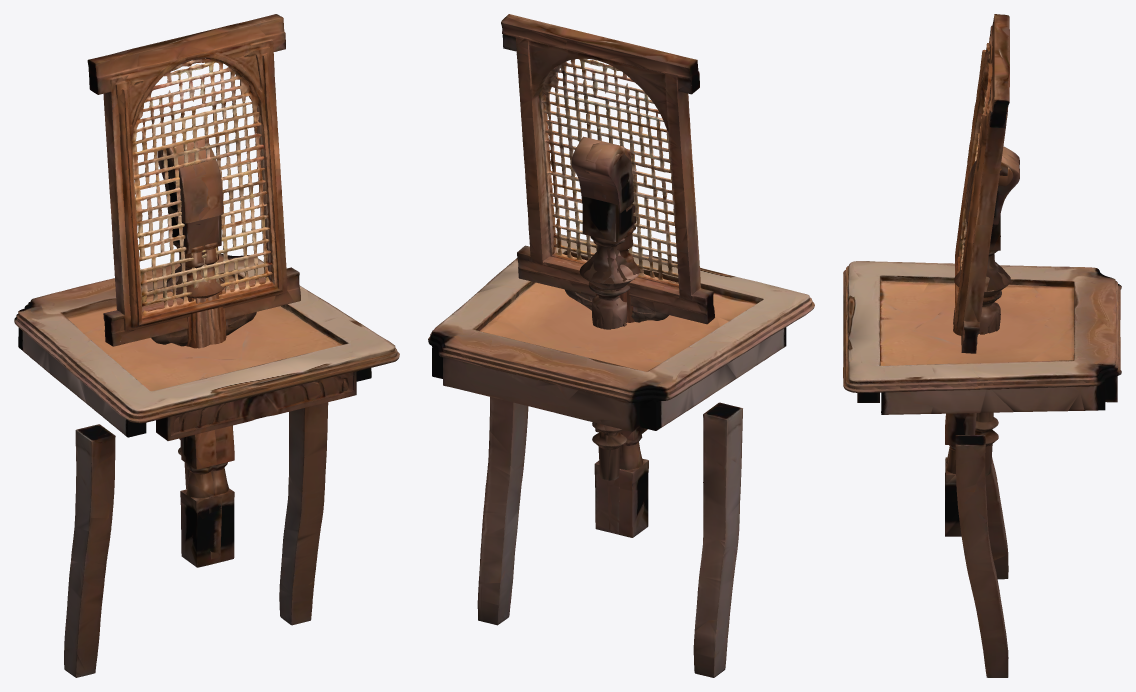
3 views of the same model, side by side, from view 1: azimuth 30°, elevation 25°; view 2: azimuth 150°, elevation 25°; view 3: azimuth 270°, elevation 25° (orthographic). The views are drawn at different scales.
Parts seen in each view (by area): view 1: root.1, root.0, root.3, root.2, root.5; view 2: root.1, root.0, root.3, root.4, root.5, root.2; view 3: root.0, root.1, root.2, root.4, root.5, root.3.
Part boxes in pixels (x1,y1,x2,y2): root.1: (64, 14, 328, 677); root.0: (14, 253, 399, 440); root.3: (157, 144, 221, 567); root.2: (161, 139, 234, 562); root.5: (166, 216, 225, 489); root.1: (477, 14, 742, 677); root.0: (428, 233, 814, 431); root.3: (585, 141, 648, 537); root.4: (579, 196, 639, 479); root.5: (579, 197, 639, 480); root.2: (571, 136, 625, 534); root.0: (843, 261, 1121, 414); root.1: (955, 14, 1009, 677); root.2: (945, 154, 1019, 536); root.4: (954, 215, 1010, 475); root.5: (954, 222, 1010, 438); root.3: (945, 146, 1019, 498).
Bounding box in the file's own units: 19777 × 41960 × 18686.
Materials: 1 (1 with a texture image).
